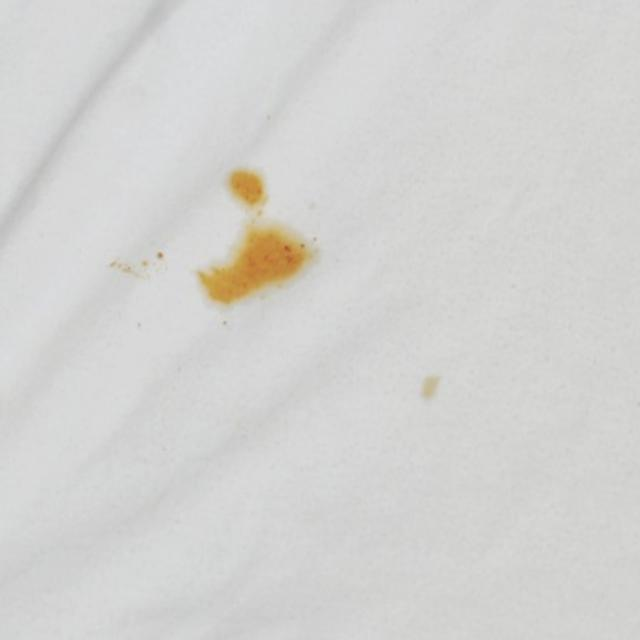kimchi: (187, 150, 325, 338), (98, 232, 174, 291), (412, 370, 452, 402), (130, 316, 149, 333)
